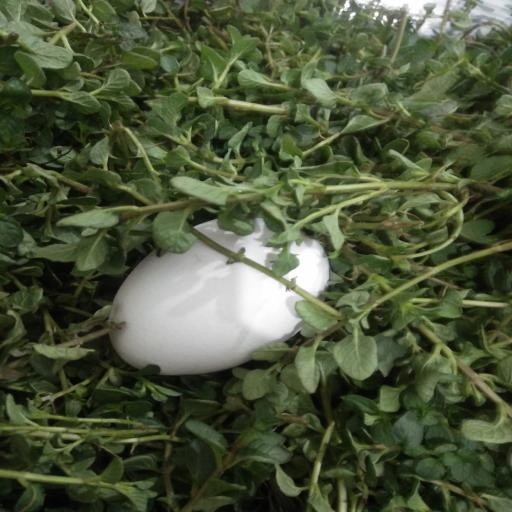telur: (109, 217, 303, 376), (284, 236, 329, 297)
